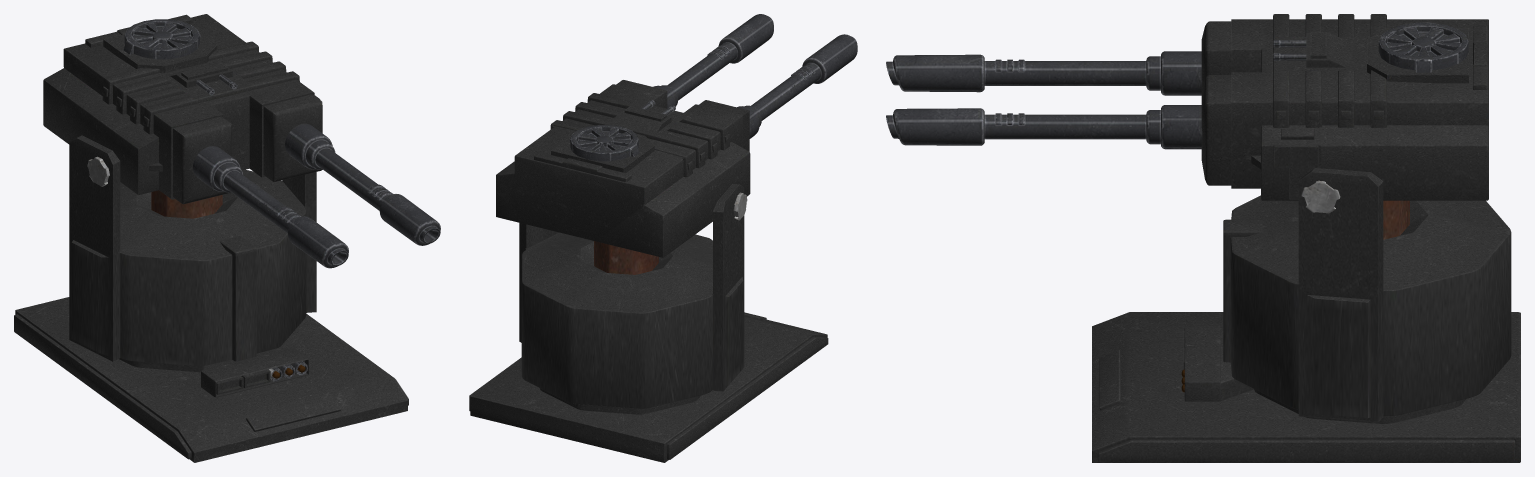
File: turret.glb
3 renders of one model, left to right at view 1: azimuth 30°, elevation 25°; view 2: azimuth 150°, elevation 25°; view 3: azimuth 270°, elevation 25°, orthographic. The views are drawn at different scales.
Parts seen in each view (by area): view 1: defaultMaterial; view 2: defaultMaterial; view 3: defaultMaterial.
Boxes of the visible parts, x1,y1,x2,y2 form: defaultMaterial: [14, 14, 440, 462]; defaultMaterial: [469, 14, 857, 462]; defaultMaterial: [886, 14, 1520, 462].
Size of the model in its own units: 22.4 by 28.23 by 45.16.
1 material, 1 textured.
